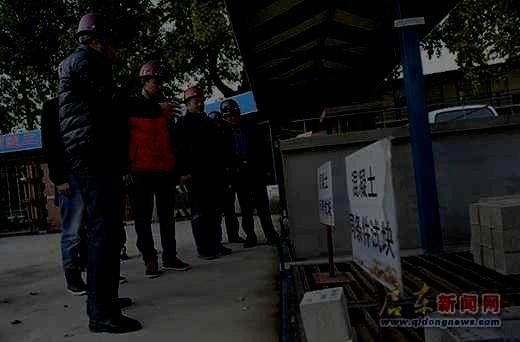helmet: (76, 14, 109, 53), (138, 61, 164, 96), (183, 87, 206, 116), (219, 99, 241, 124)
